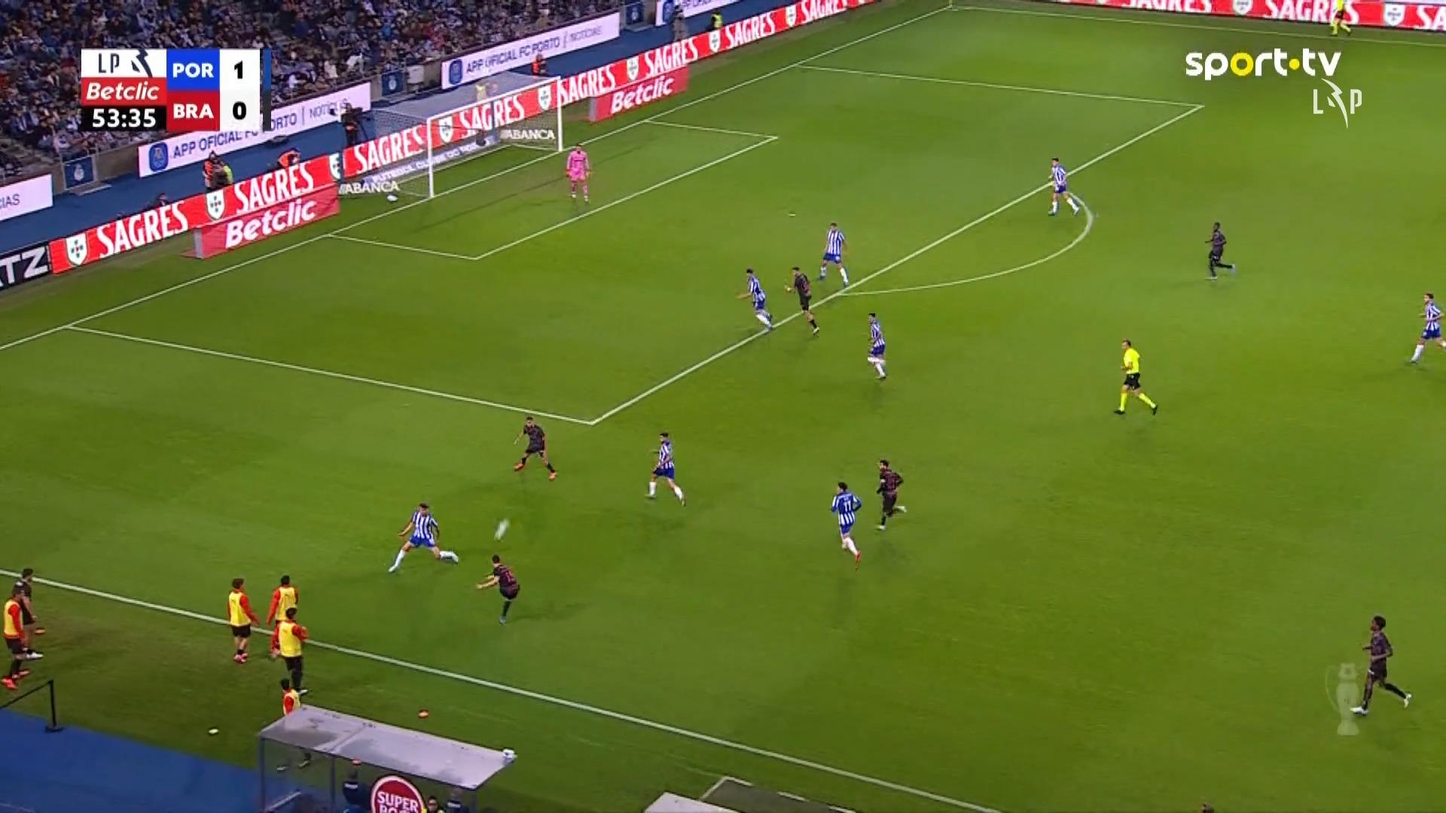ball: (493, 518, 509, 541)
goalkeeper: (564, 142, 592, 203)
player: (1350, 614, 1412, 715), (387, 501, 459, 573), (474, 553, 520, 625), (278, 676, 313, 769), (644, 431, 686, 506), (511, 414, 558, 480), (830, 480, 862, 569), (1405, 291, 1444, 364), (783, 265, 819, 336), (734, 266, 773, 331), (874, 458, 906, 530), (816, 221, 850, 287), (1046, 156, 1080, 216), (1203, 221, 1235, 279), (865, 311, 887, 380)
referee: (1, 580, 35, 689), (1112, 338, 1158, 415), (270, 606, 309, 695), (12, 565, 45, 659), (266, 574, 299, 659), (227, 576, 259, 662), (1329, 0, 1353, 36)
